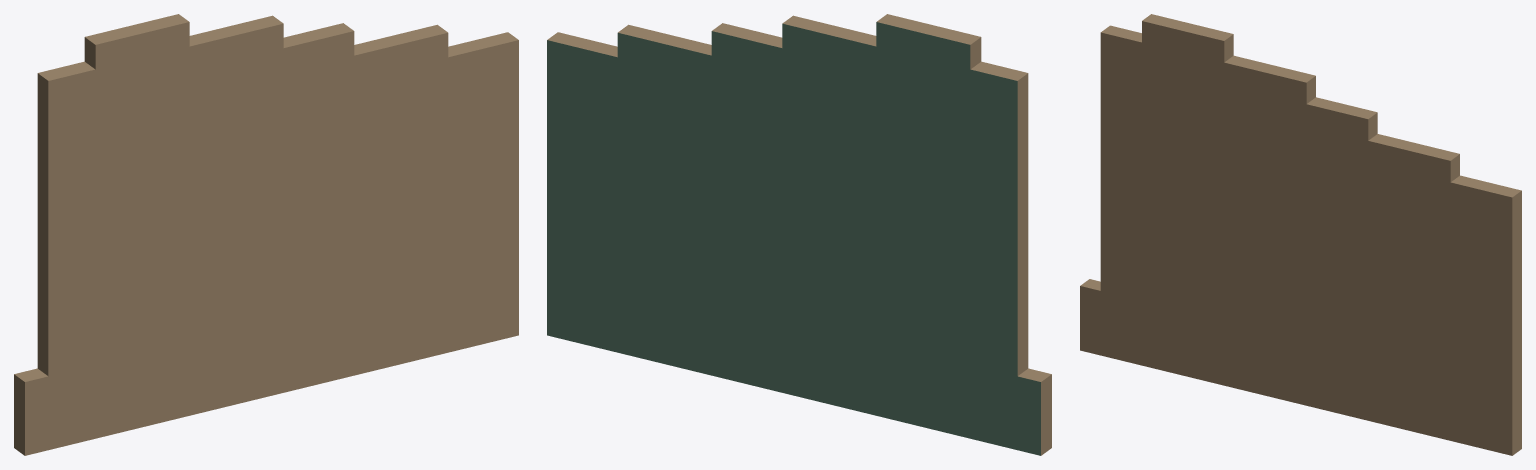
File: SM_BarrierSign_5.fbx
3 views of the same model, side by side, from view 1: azimuth 30°, elevation 25°; view 2: azimuth 150°, elevation 25°; view 3: azimuth 330°, elevation 25° (orthographic). The views are drawn at different scales.
Parts seen in each view (by area): view 1: SM_BarrierSign_5; view 2: SM_BarrierSign_5; view 3: SM_BarrierSign_5.
Part boxes in pixels (bbox=[...]): SM_BarrierSign_5: bbox=[14, 14, 518, 455]; SM_BarrierSign_5: bbox=[547, 14, 1051, 455]; SM_BarrierSign_5: bbox=[1080, 14, 1521, 455].
Size of the model in its own units: 52.5 by 2 by 40.
